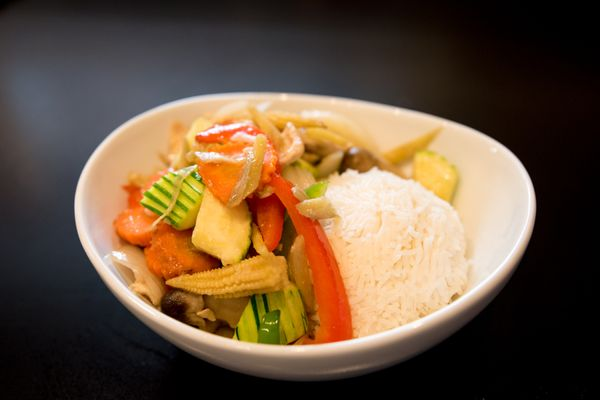sushi: (50, 91, 537, 383)
